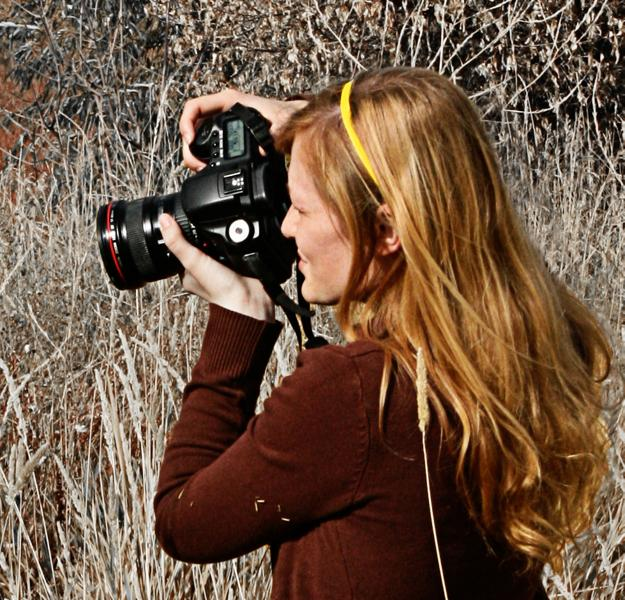person: (156, 70, 611, 600)
